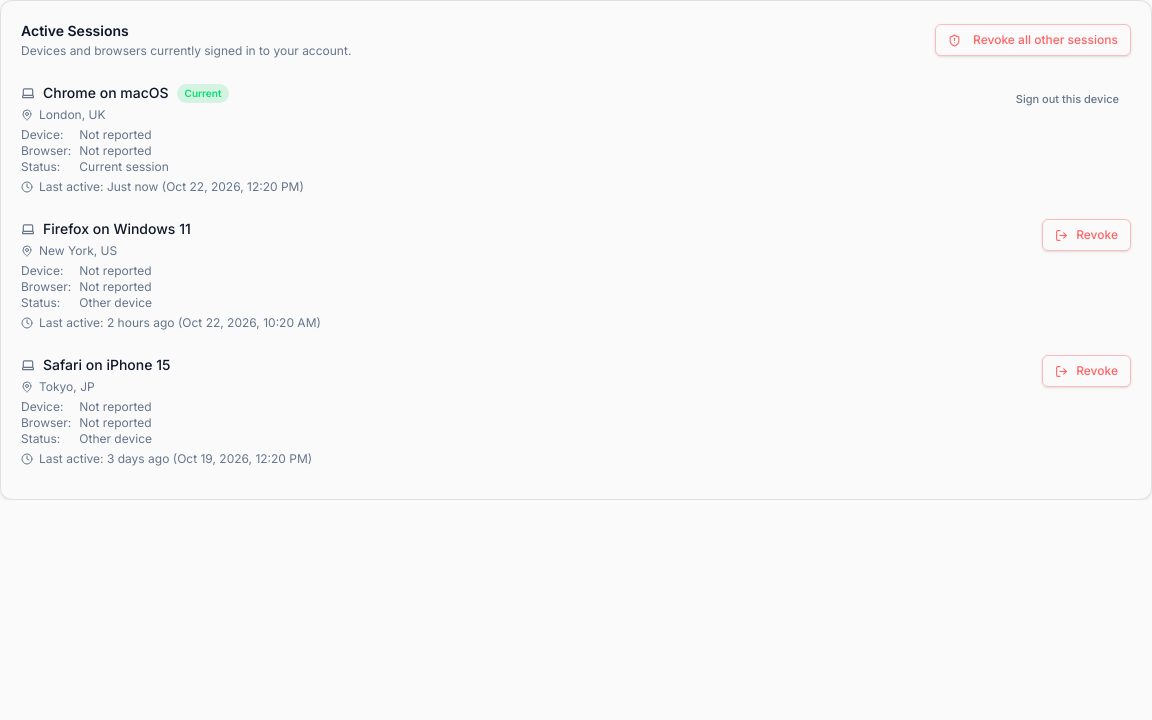
Test: ActiveSessionsPanel – single revoke › removes the session from the list after successful revoke
Click the button with aria-label "revoke session on firefox on windows 11".
click(1087, 235)  # box [1042,219,1131,251]
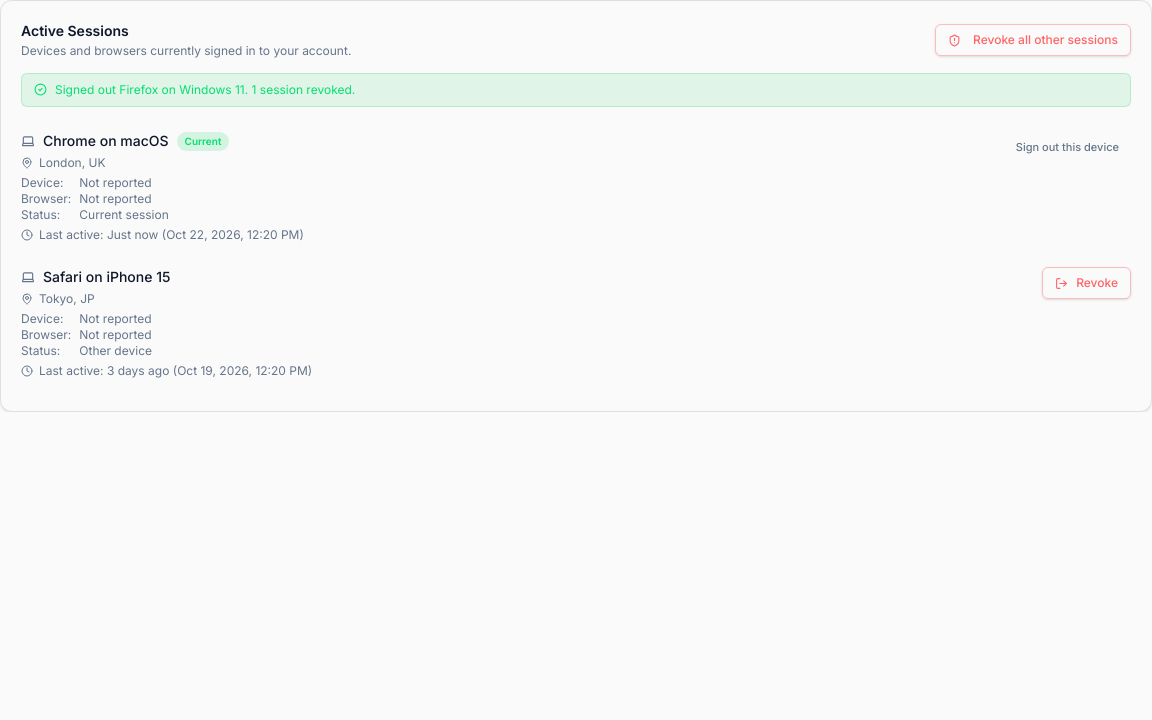
Check: the element with test id "session-row-sess_a" is gone
